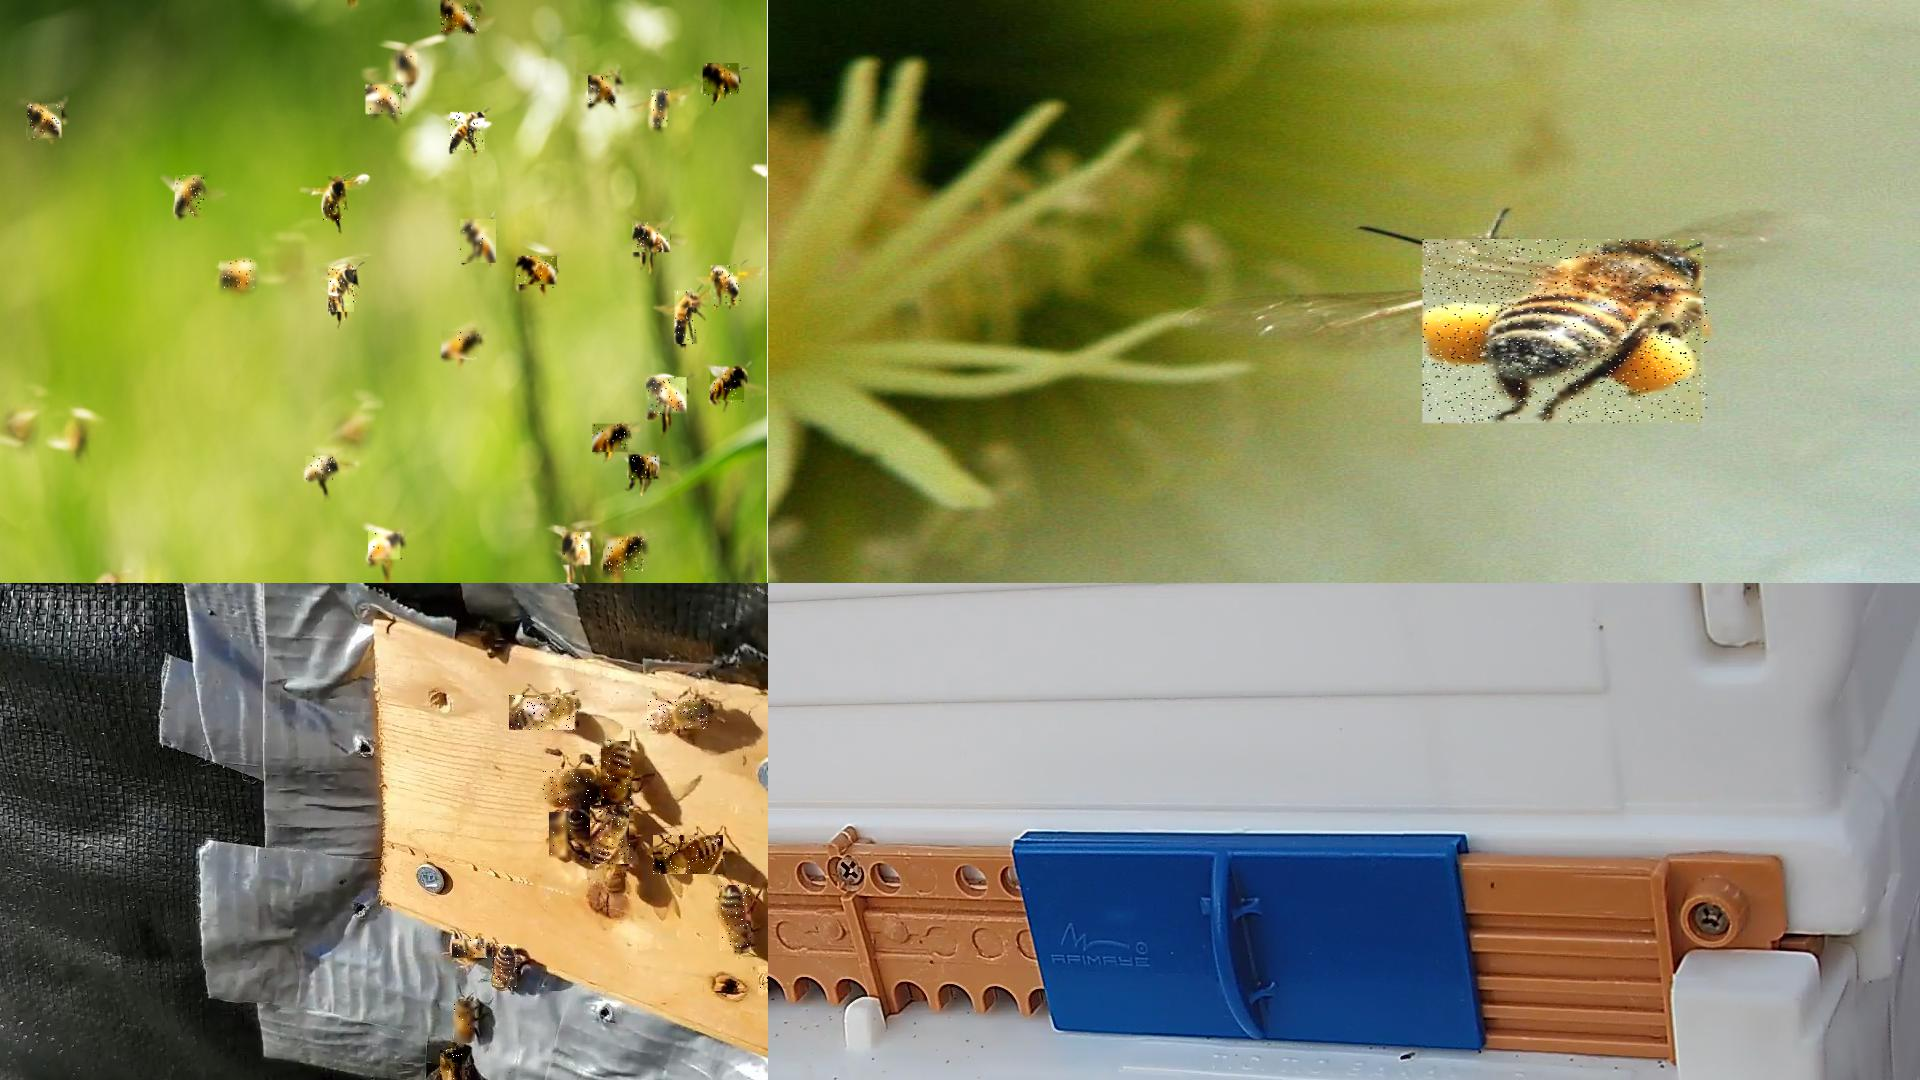bee: (653, 835, 724, 876), (591, 806, 634, 865), (510, 695, 580, 731), (719, 886, 752, 953), (601, 741, 632, 807), (647, 699, 709, 731), (545, 770, 593, 806), (460, 219, 497, 265), (646, 378, 688, 418), (604, 538, 645, 575), (450, 113, 485, 154), (516, 257, 558, 290), (328, 266, 357, 314), (711, 368, 748, 405), (175, 175, 206, 218), (28, 104, 63, 140), (632, 222, 671, 253), (367, 84, 406, 116), (675, 290, 698, 345), (493, 944, 521, 988), (593, 423, 632, 454), (442, 331, 481, 359), (369, 533, 404, 564), (220, 261, 256, 291), (550, 812, 571, 861), (563, 533, 592, 567), (588, 75, 620, 105), (454, 1001, 476, 1042), (629, 456, 661, 484), (306, 456, 336, 481), (452, 939, 491, 959), (440, 1050, 465, 1079), (397, 53, 418, 84), (651, 90, 669, 128), (570, 810, 589, 837)
pollenbee: (1423, 239, 1710, 425), (440, 0, 480, 34), (711, 265, 742, 307), (703, 63, 740, 99), (323, 177, 345, 222)
